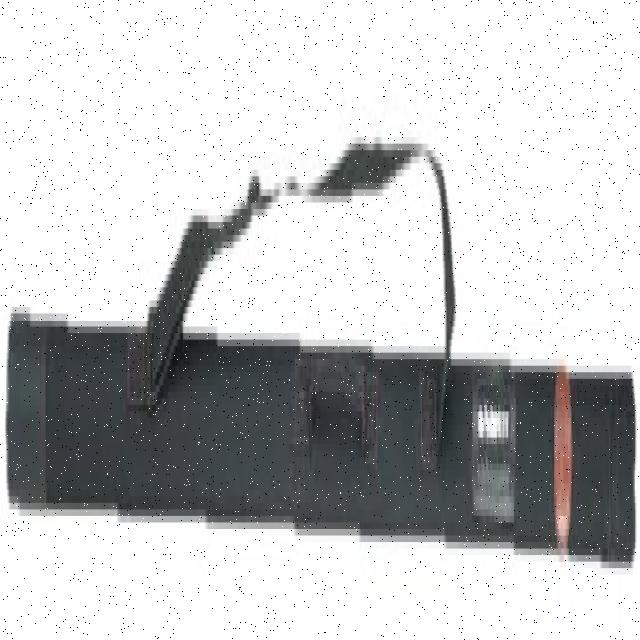bazooka: (3, 280, 640, 601)
